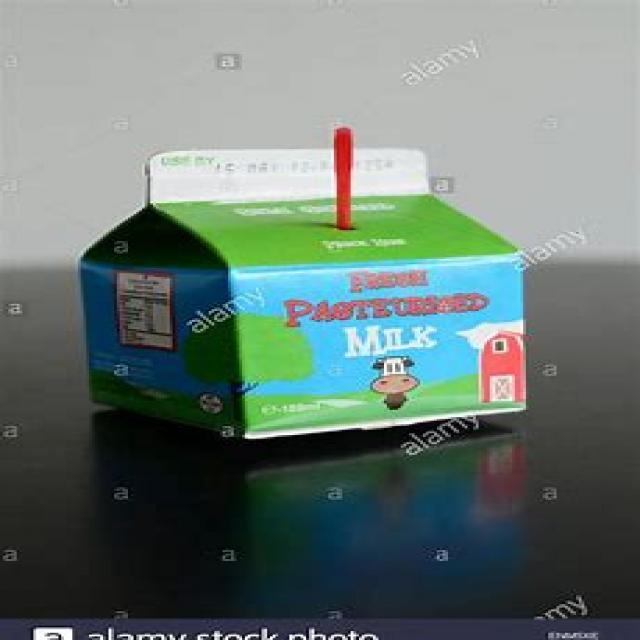non_white_jug: (67, 123, 538, 447)
